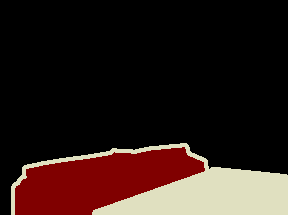sofa: (14, 146, 207, 215)
